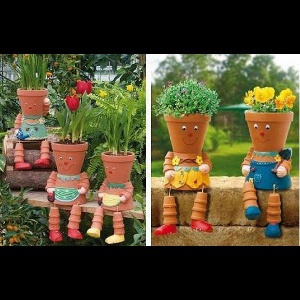flowerpot: (244, 106, 294, 154), (163, 109, 212, 156), (51, 139, 88, 173), (101, 149, 135, 183), (16, 87, 47, 116)
